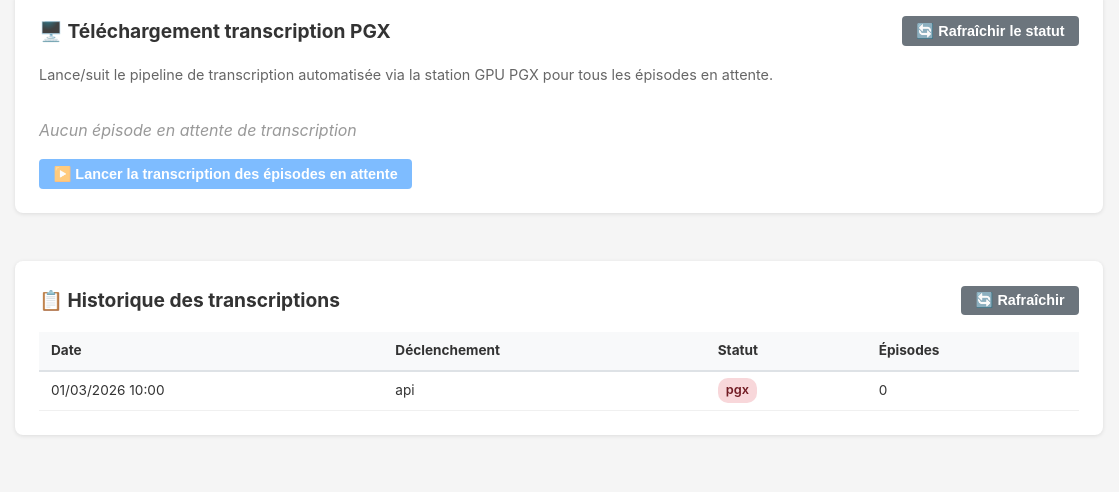
Test case: PgxTranscription (Issue #302) › Historique (Issue #309) › rafraîchit aussi le détail ouvert au clic sur le bouton Rafraîchir de l'historique
Click the row "01/03/2026 10:00 api pgx 0": (559, 390) left=39, top=371, right=1079, bottom=410
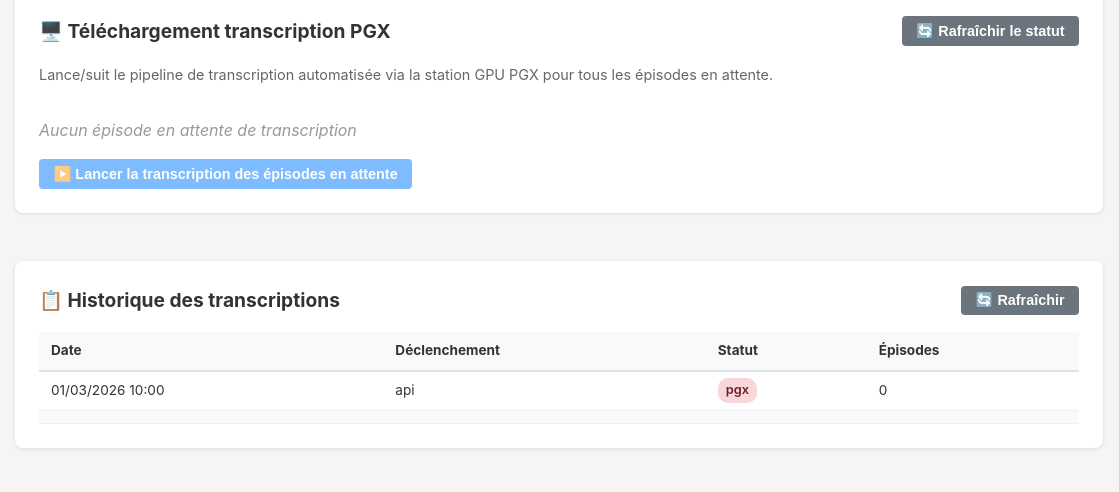
Expected: the text "pgx" is shown, left=718, top=378, right=757, bottom=403
Click the button "🔄 Rafraîchir": (1020, 300) left=961, top=286, right=1079, bottom=315
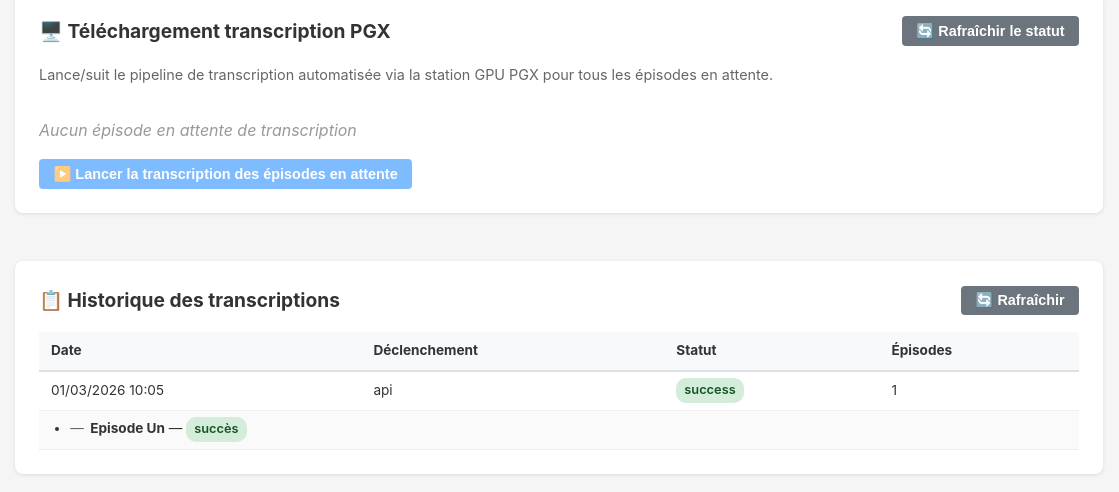
Now the text "success" is shown, box left=676, top=378, right=744, bottom=403
